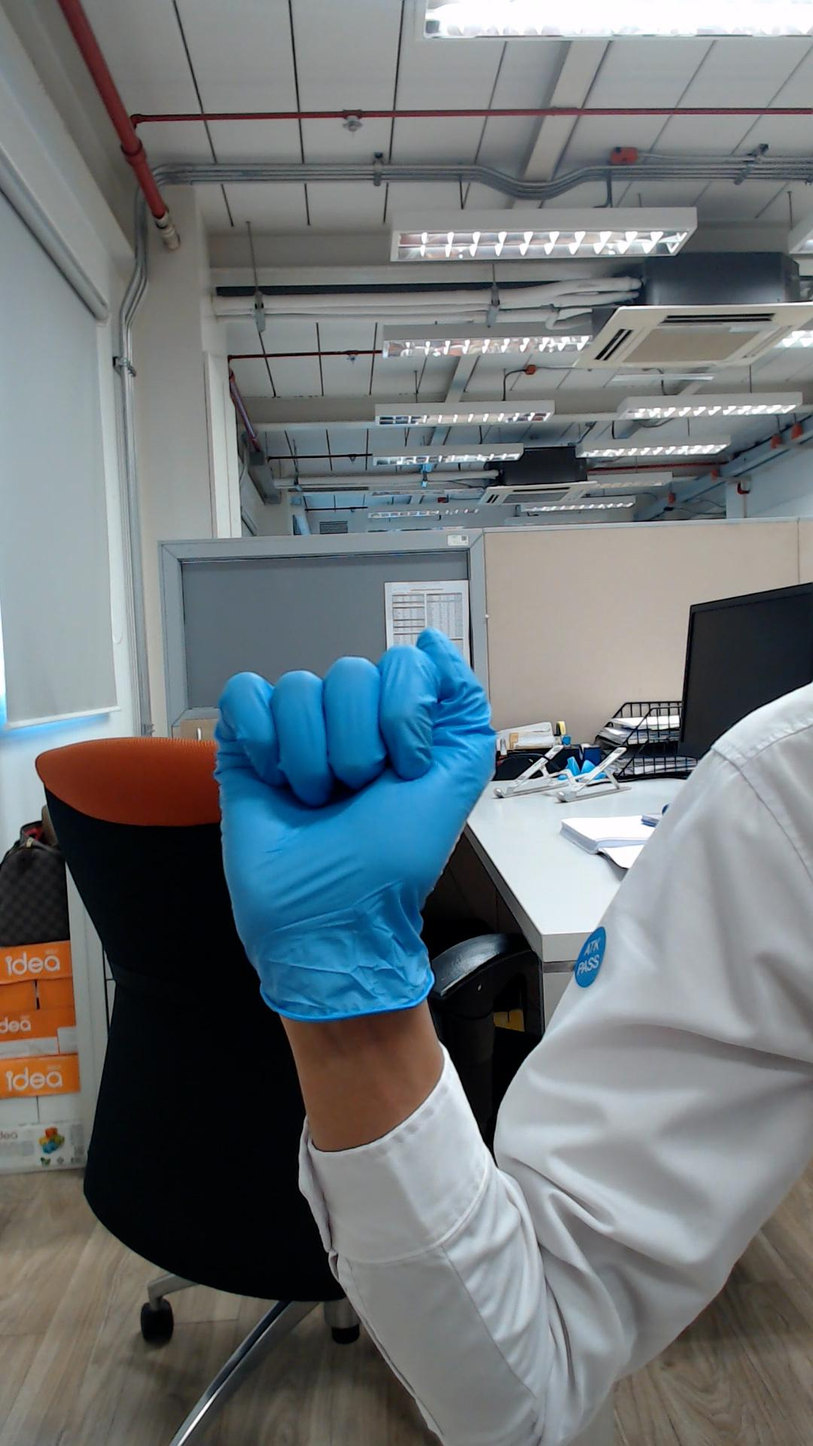gloves: (192, 593, 520, 914)
